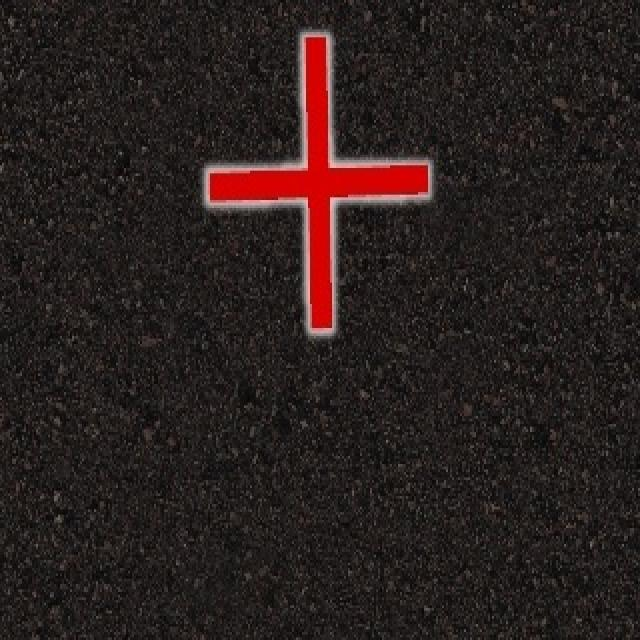x_marker: (207, 36, 427, 329)
